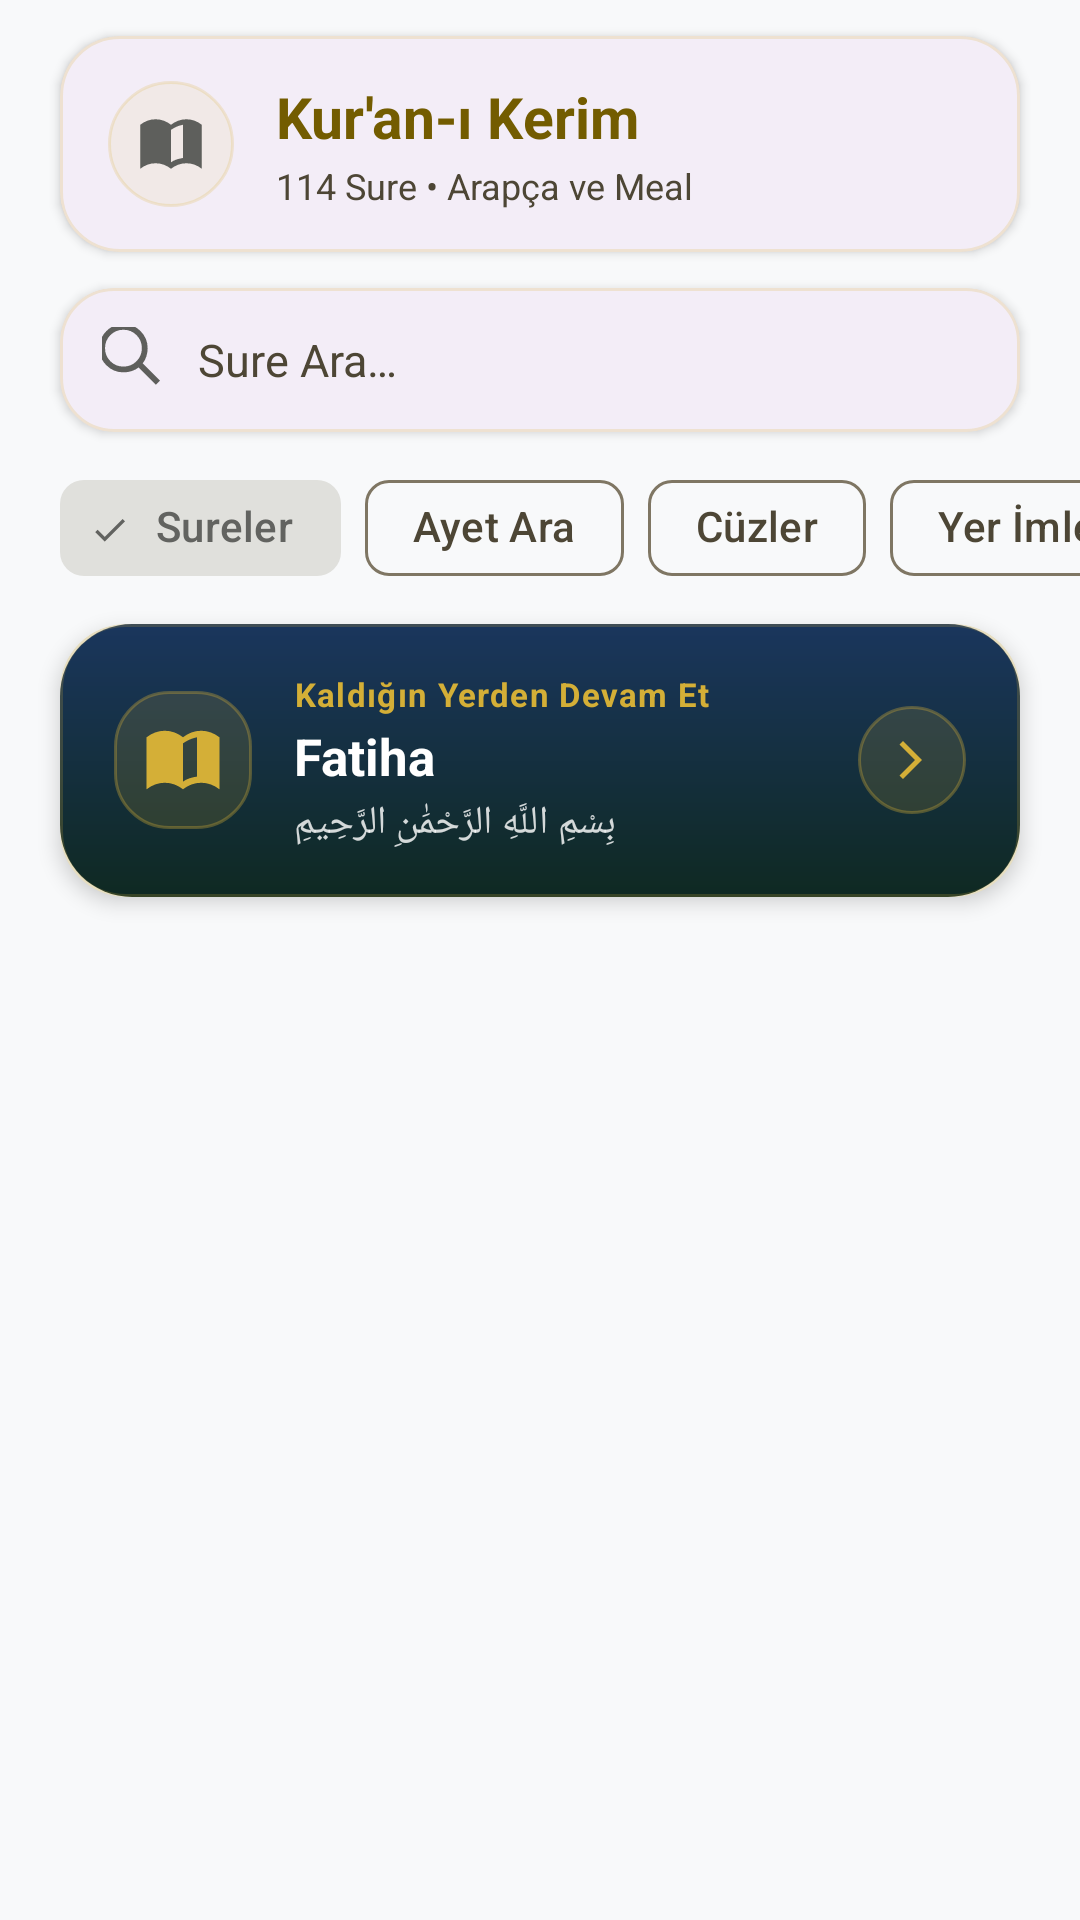

Point at icon controls on the screen. Image size 1080w x 1920h, points as (x=x, y=y).
forward arrow: (x=912, y=760)
quran rounded: (x=171, y=144), (x=183, y=760)
